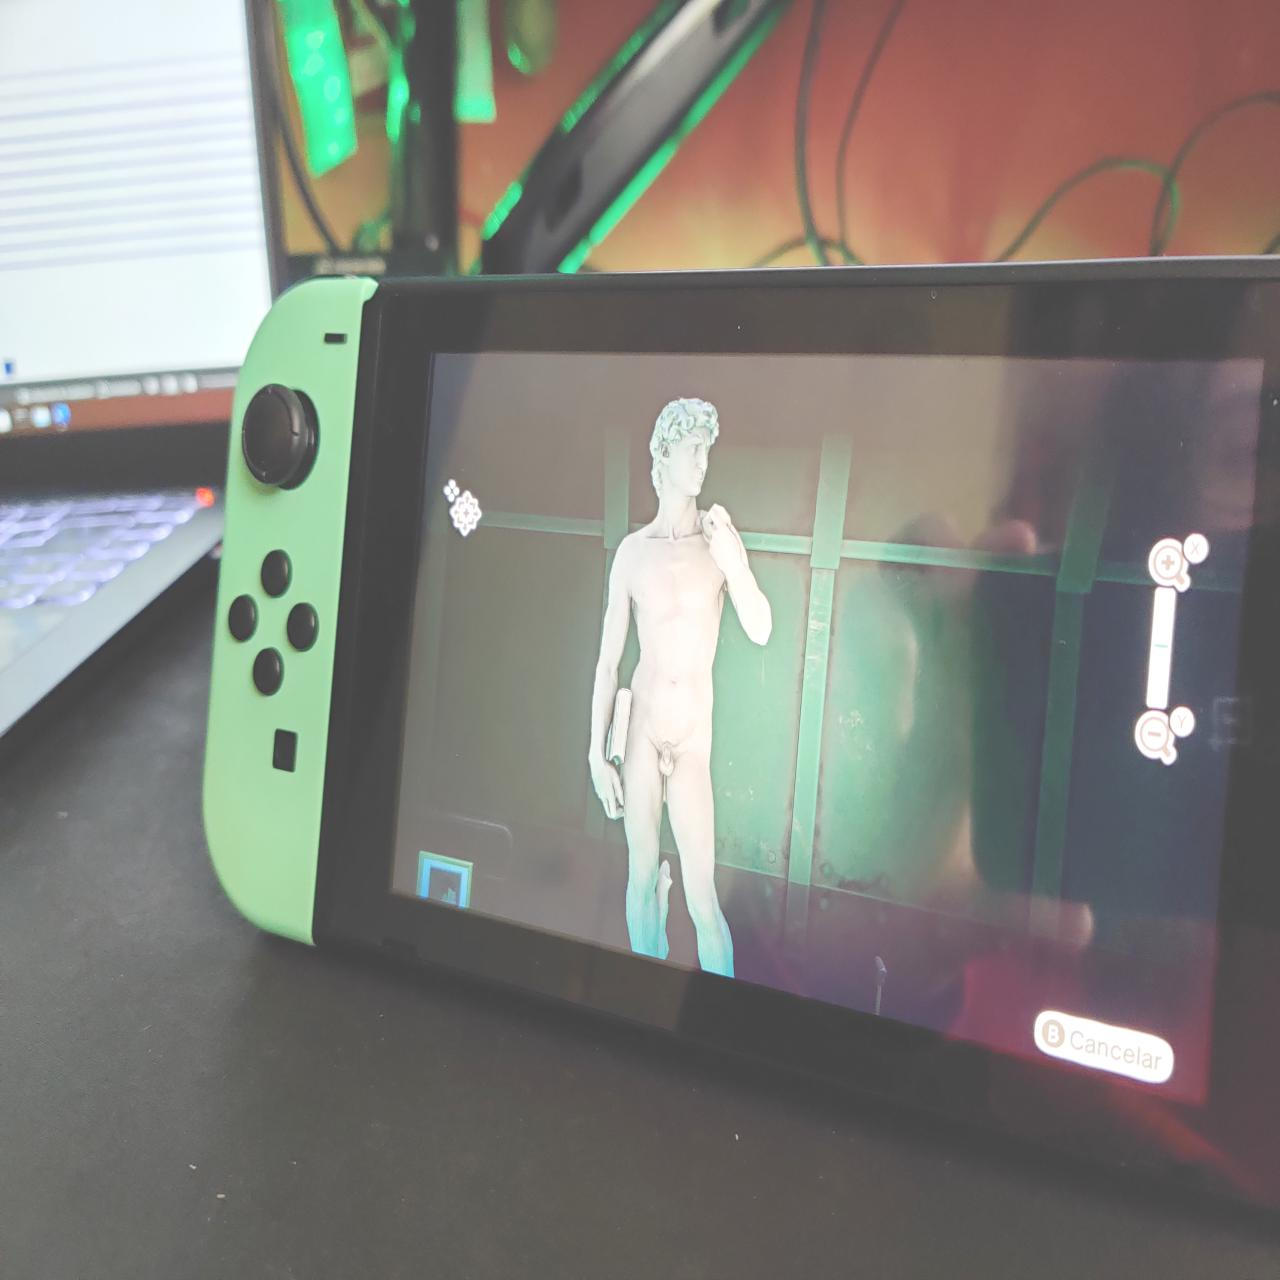DavidFake: (588, 395, 781, 992)
